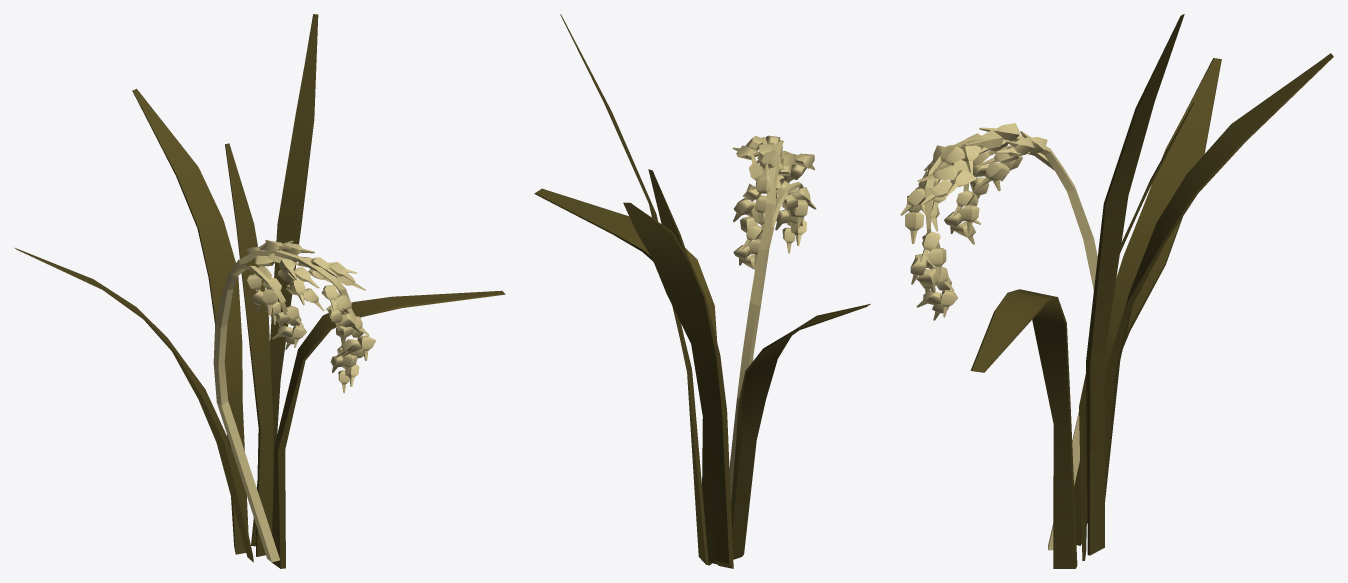
The model's file is paddy.obj.
3 renders of one model, left to right at view 1: azimuth 30°, elevation 25°; view 2: azimuth 150°, elevation 25°; view 3: azimuth 270°, elevation 25°, orthographic. The views are drawn at different scales.
Visible parts, largest first — view 1: RicePlant; view 2: RicePlant; view 3: RicePlant.
Boxes of the visible parts, x1,y1,x2,y2 form: RicePlant: [14, 14, 505, 568]; RicePlant: [534, 14, 870, 568]; RicePlant: [900, 14, 1333, 568].
Size of the model in its own units: 3.98 by 4.82 by 3.14.
